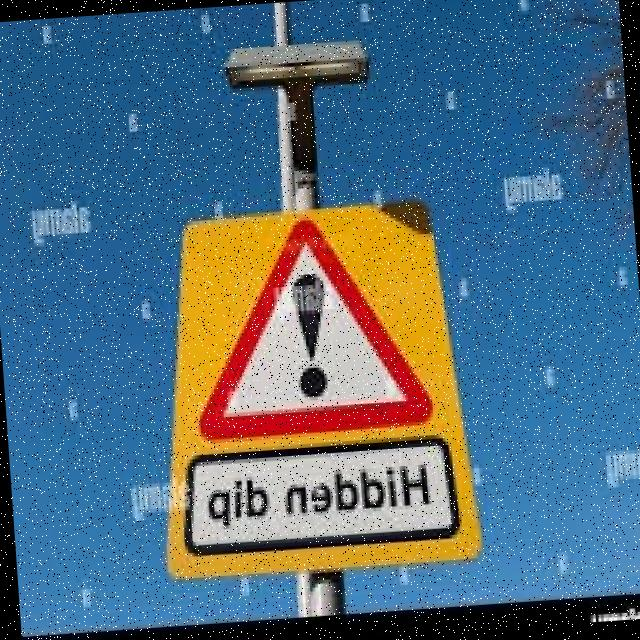warning: (179, 205, 438, 448)
